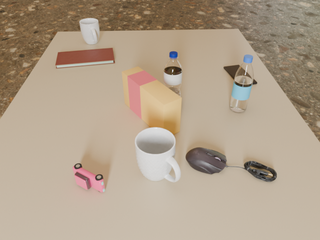book: (56, 48, 115, 68)
bottle: (229, 55, 254, 113), (164, 51, 182, 97)
box: (122, 67, 181, 134)
cup: (135, 128, 181, 182), (80, 18, 99, 44)
mouse: (186, 147, 229, 174)
phone: (224, 65, 257, 84)
toy_car: (73, 163, 105, 192)
